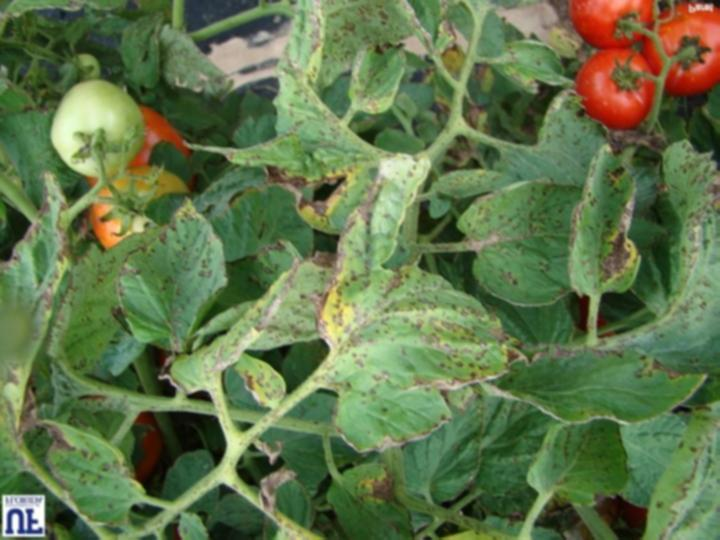Tomato leaf bacterial spot: (285, 164, 506, 460), (444, 175, 608, 313), (258, 4, 370, 197), (119, 189, 236, 368), (481, 339, 711, 425), (553, 136, 646, 306), (341, 35, 407, 114)
